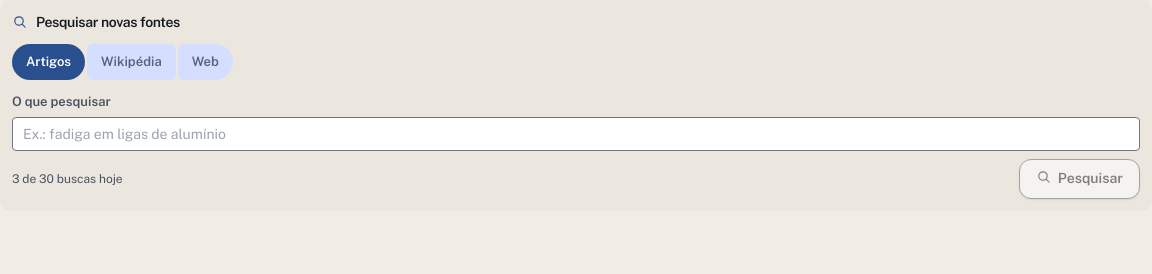
Test: SourceSearch — searching › shows the server's message when the search is refused
Type "fadiga" into the search field labelled "O que pesquisar" at (576, 134), box [12,116,1140,150]
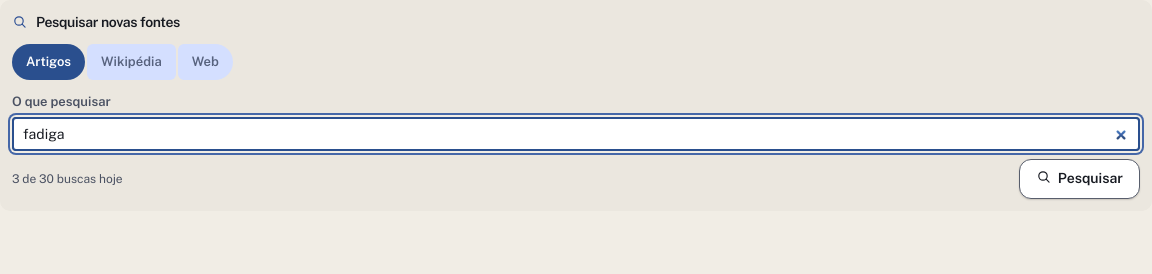
Click the button "Pesquisar" at (1079, 178), box [1019,158,1140,198]
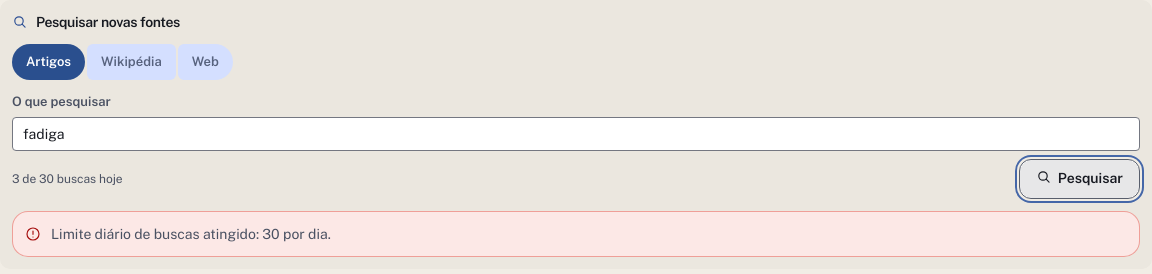
Now the message reads "Limite diário de buscas atingido: 30 por dia.", box [51,226,331,242]
